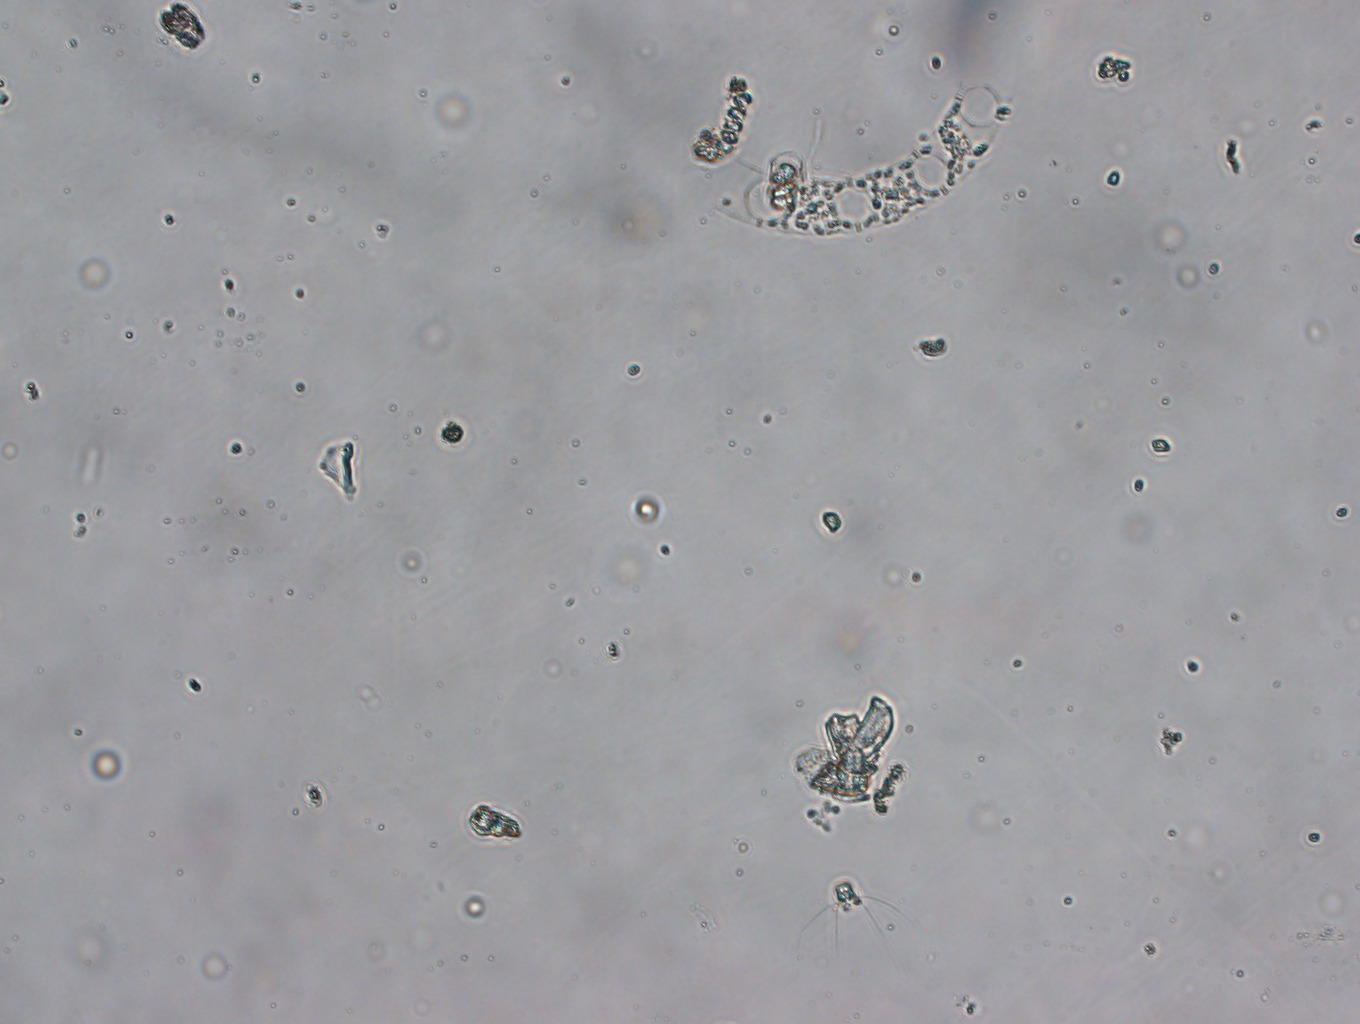eucampia: (695, 58, 1025, 242)
